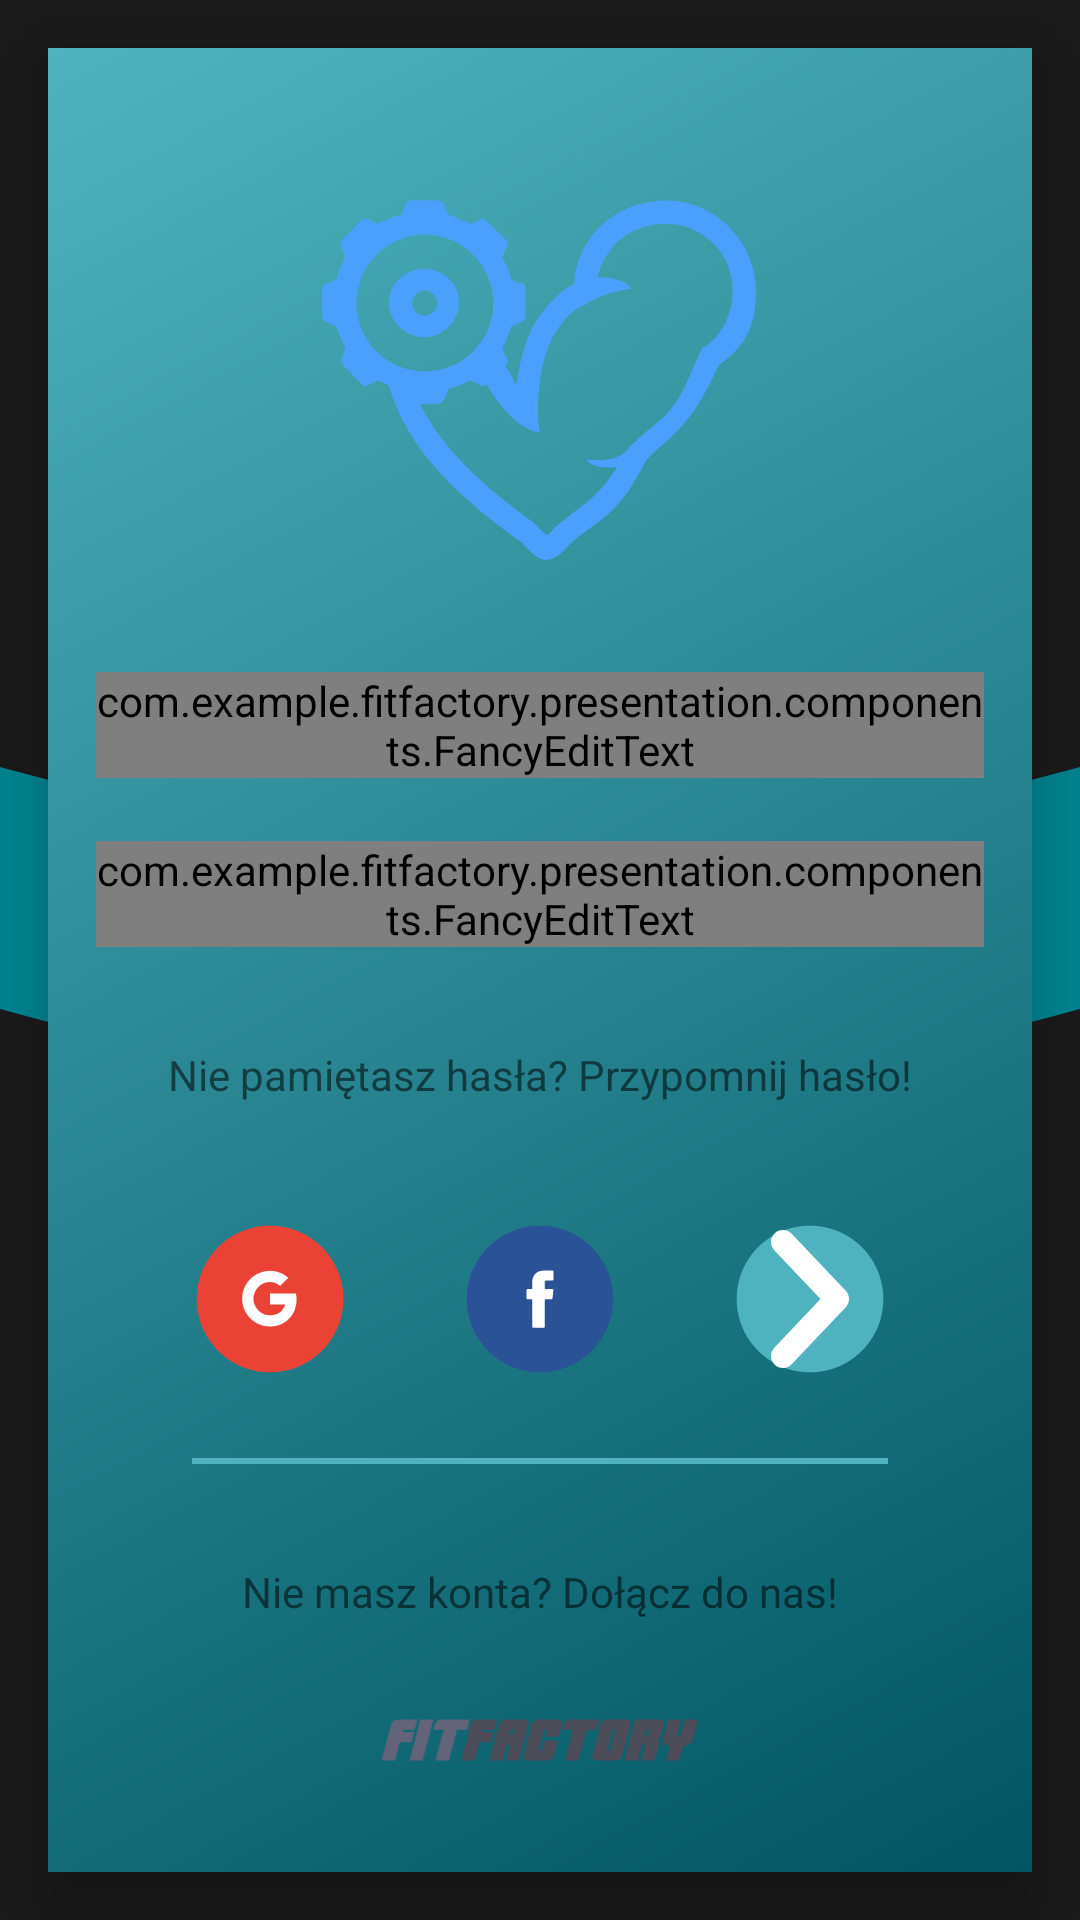

Where icons sit on this 1080px x 1920px app screen, as BBox(x1, y1, x2, y2):
arrowright: BBox(737, 1226, 883, 1372)
